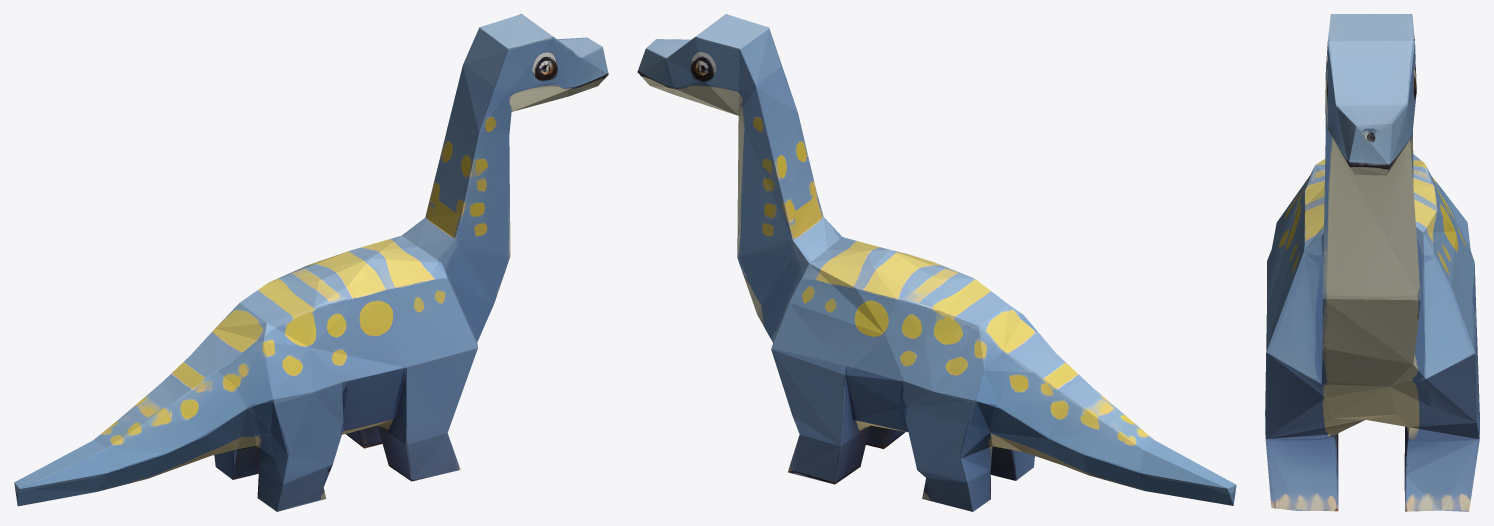
The picture shows the model from 3 angles, left to right: view 1: azimuth 30°, elevation 25°; view 2: azimuth 150°, elevation 25°; view 3: azimuth 270°, elevation 25°; orthographic projection. The views are drawn at different scales.
Visible parts, largest first — view 1: Figure; view 2: Figure; view 3: Figure.
Boxes of the visible parts, x1,y1,x2,y2 form: Figure: [14, 14, 608, 511]; Figure: [637, 14, 1236, 511]; Figure: [1265, 14, 1479, 511].
Bounding box in the file's own units: 0.9223 × 0.5893 × 0.2096.
1 material, 1 textured.
